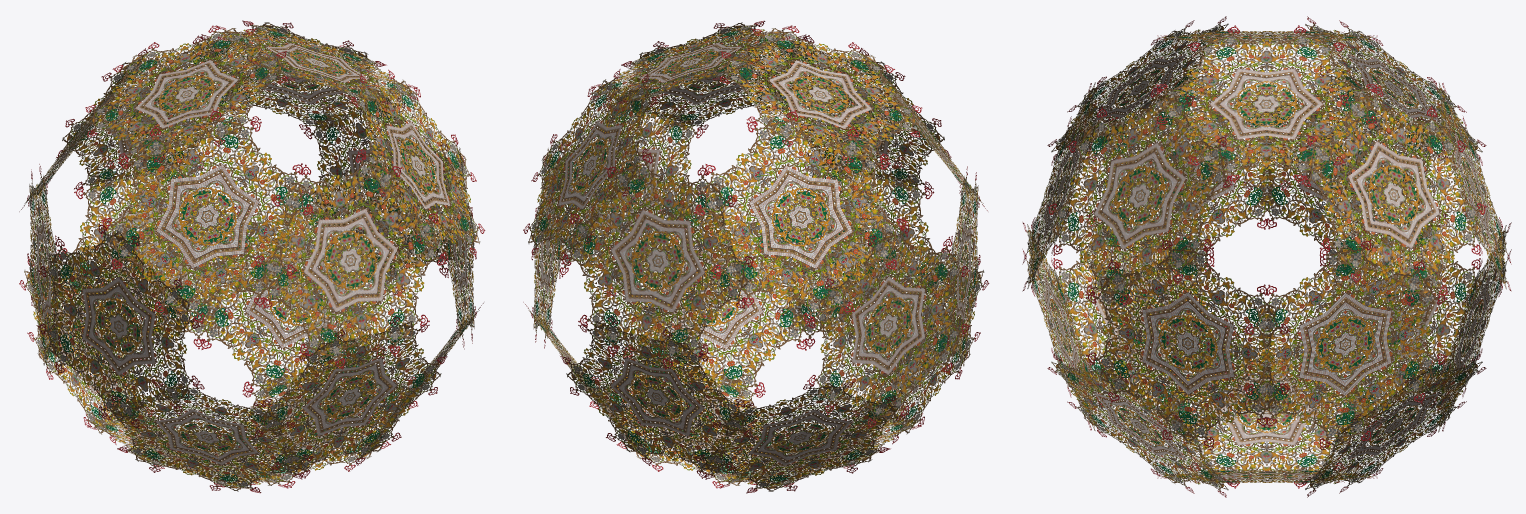
The model's file is IcositruncatedDodecadodecahedron7.gltf.
3 renders of one model, left to right at view 1: azimuth 30°, elevation 25°; view 2: azimuth 150°, elevation 25°; view 3: azimuth 270°, elevation 25°, orthographic. The views are drawn at different scales.
Visible parts, largest first — view 1: IcositruncatedDodecadodecahedron; view 2: IcositruncatedDodecadodecahedron; view 3: IcositruncatedDodecadodecahedron.
Part boxes in pixels (<box>): IcositruncatedDodecadodecahedron: <box>19,20,485,493</box>; IcositruncatedDodecadodecahedron: <box>523,20,989,493</box>; IcositruncatedDodecadodecahedron: <box>1022,16,1511,497</box>.
Size of the model in its own units: 3.85 by 3.85 by 3.85.
Materials: 1 (1 with a texture image).
